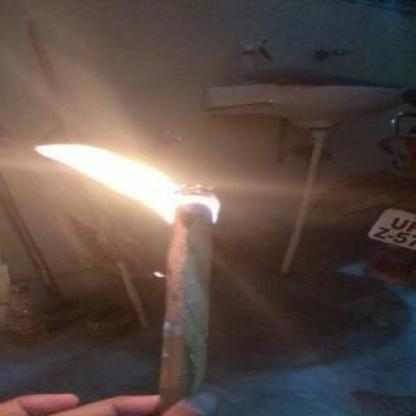fire: (18, 125, 218, 226)
